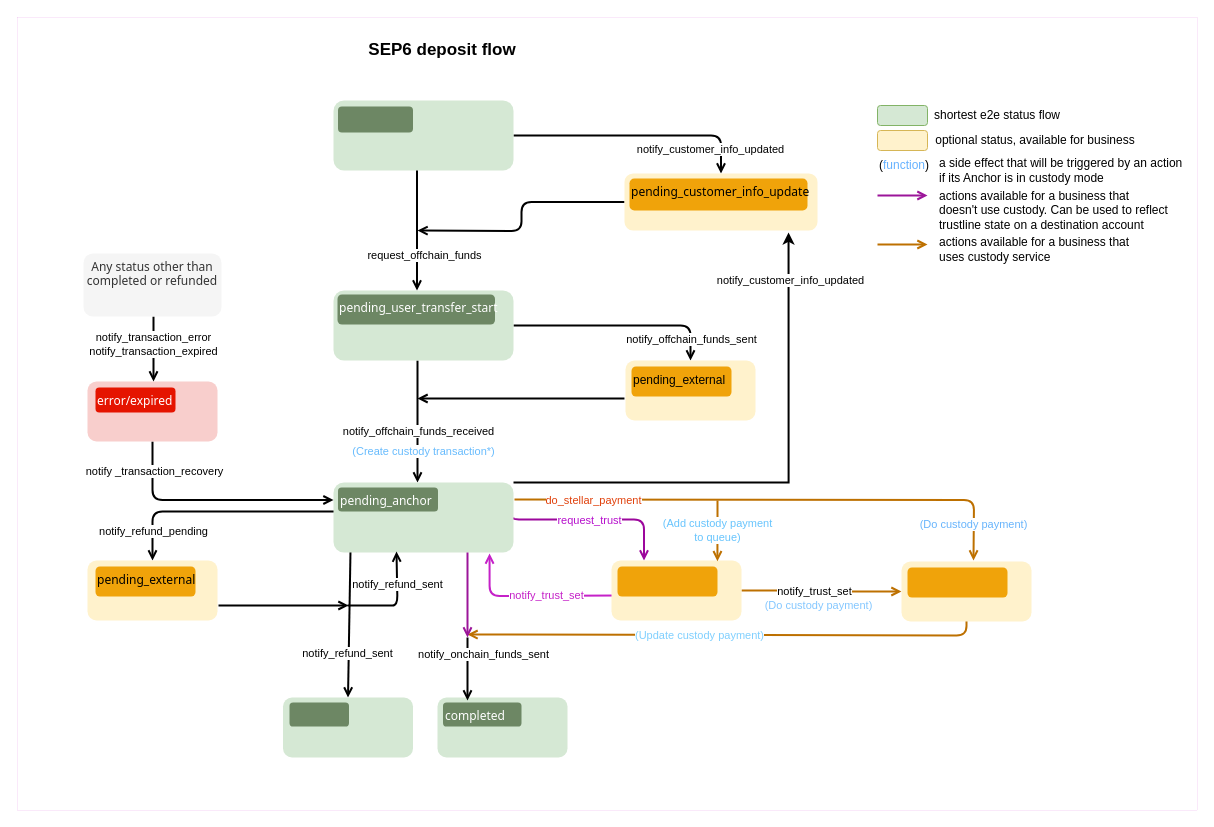
Image size: 1214x827. Some labels were removed from this diagram. The centre of each missing label's shape, as x and y in pixels:
"incomplete" goes at [375,119].
"pending_stellar" goes at [957,582].
"pending_trust" goes at [667,581].
"refunded" goes at [318,714].
